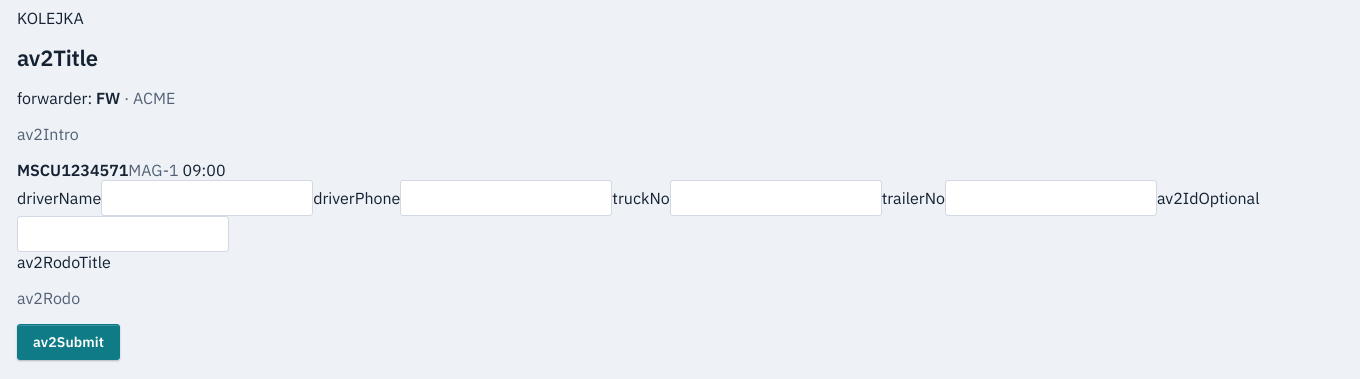
Test case: AvizoDriverFormPage › walidacja blokuje wysyłkę; poprawne dane → POST JSON → stan wysłany
The width and height of the screenshot is (1360, 379).
Expected: the text "MSCU1234571" is shown, [17,160,128,180]
Expected: the text "av2RodoTitle" is shown, [17,252,111,272]
Click the button "av2Submit" at [68, 342], box [17,324,120,360]
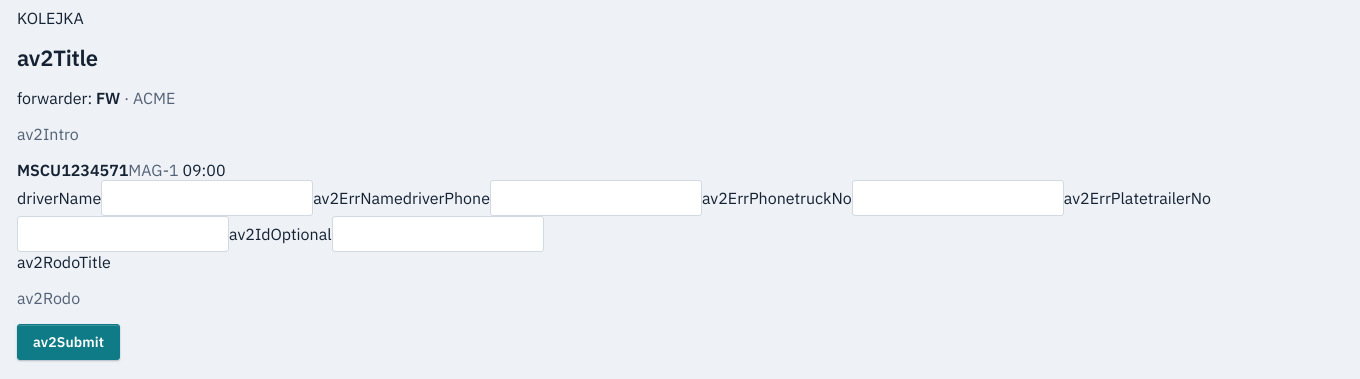
Now the text "av2ErrName" is shown, box [313,188,403,208]
Type "Jan Kowalski" into the field labelled "driverName av2ErrName" at [207, 198], box [101,180,313,216]
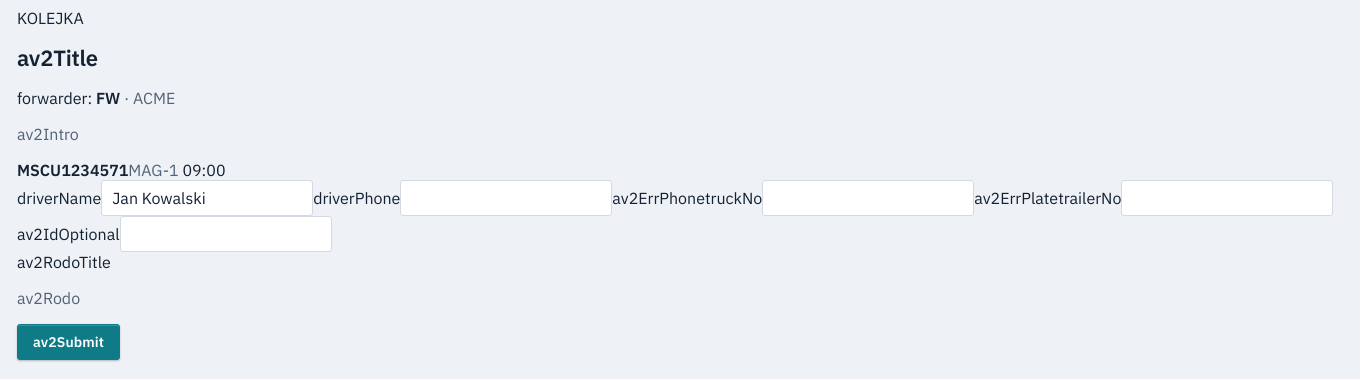
Type "600 100 200" into the field labelled "driverPhone" at [506, 198], box [400,180,612,216]
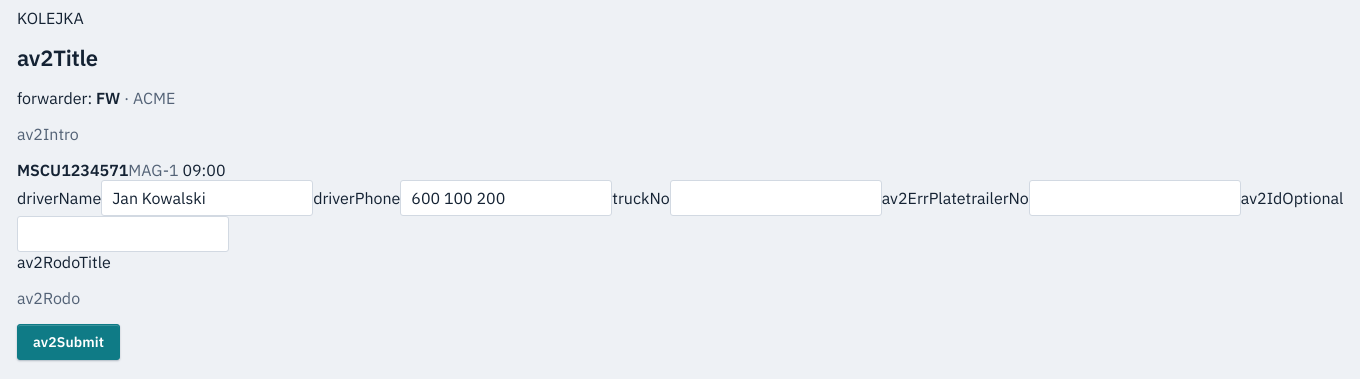
Type "WX1234A" into the field labelled "truckNo av2ErrPlate" at [776, 198], box [670,180,882,216]
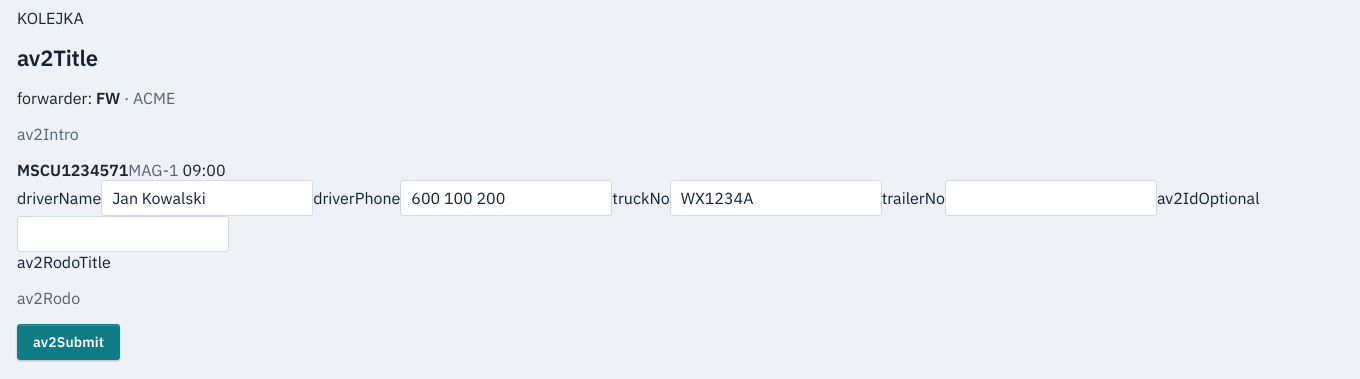
Click the button "av2Submit" at [68, 342], box [17,324,120,360]
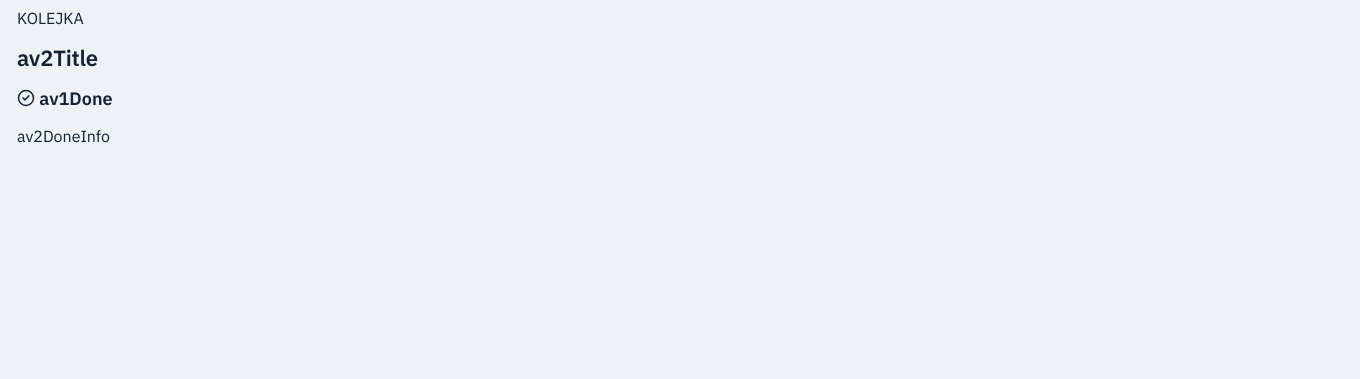
Now the heading "av1Done" is shown, box [17,87,112,110]
